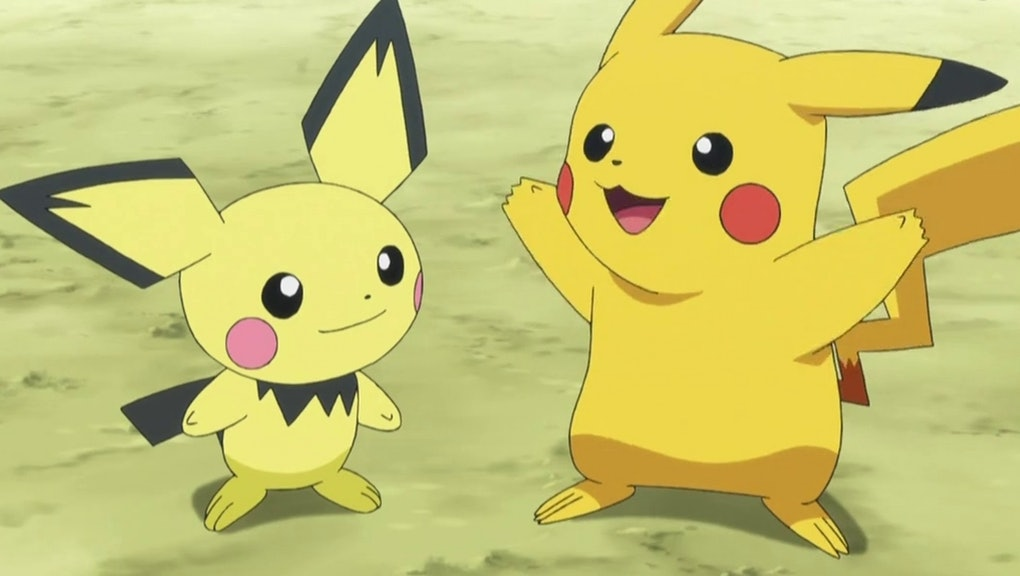pikachu: (475, 1, 1020, 548)
